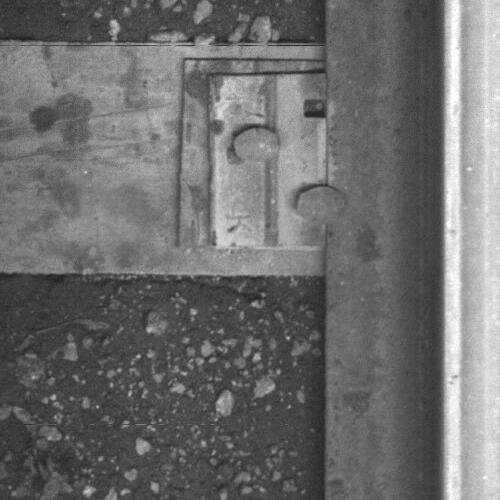do: (209, 70, 348, 249)
hole_do: (295, 88, 337, 128)
rail: (438, 1, 500, 500)
tie_wood: (1, 42, 325, 277)
